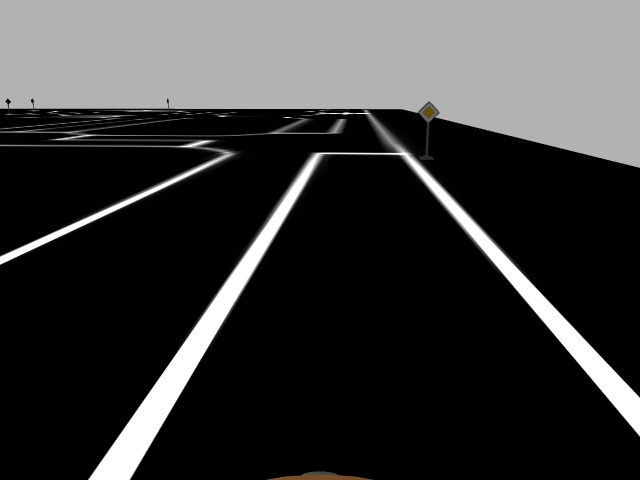priority: (416, 100, 441, 123)
